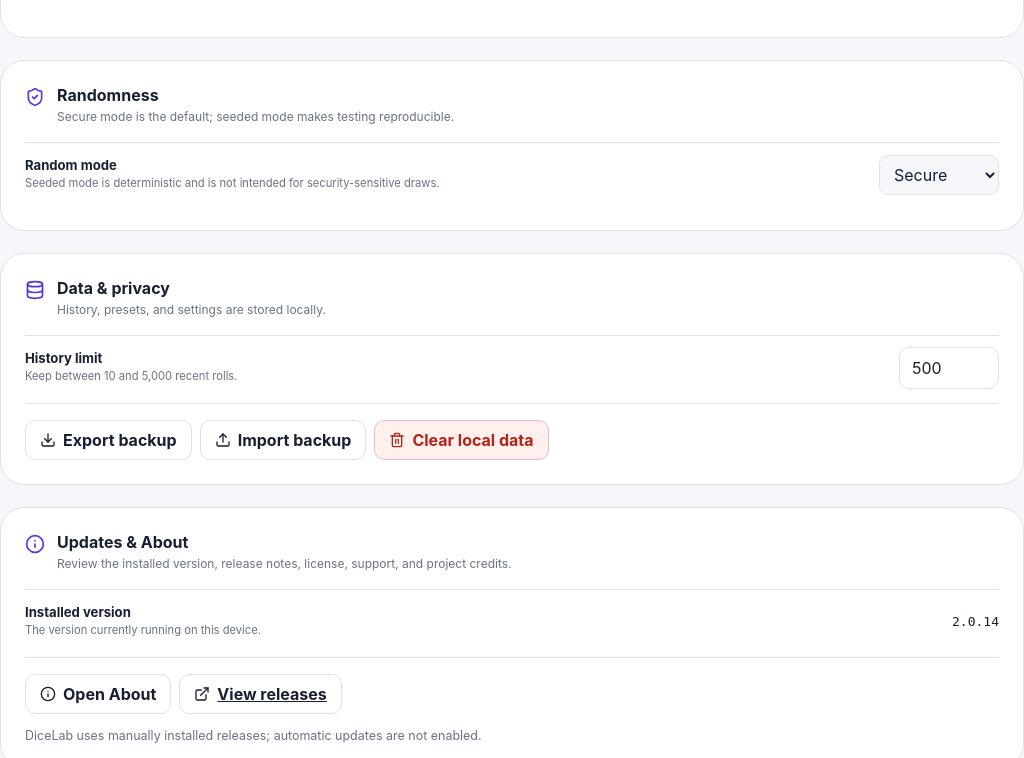
SettingsPanel › reports a failed backup export without exposing raw errors
(page scrolled)
What coordinates should you click on to do the following:
click the button "Export backup"
I would click on:
 (108, 440)
Its box is [25,420,192,460].
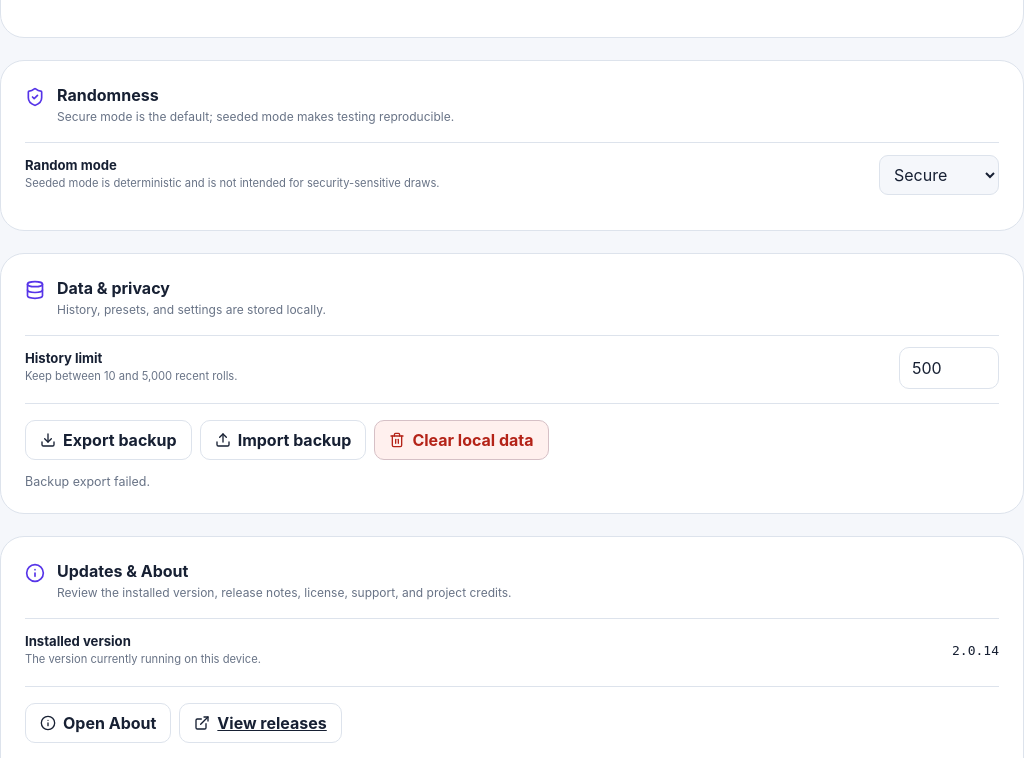
Result: the message reads "Backup export failed." at [25,474,150,489]
